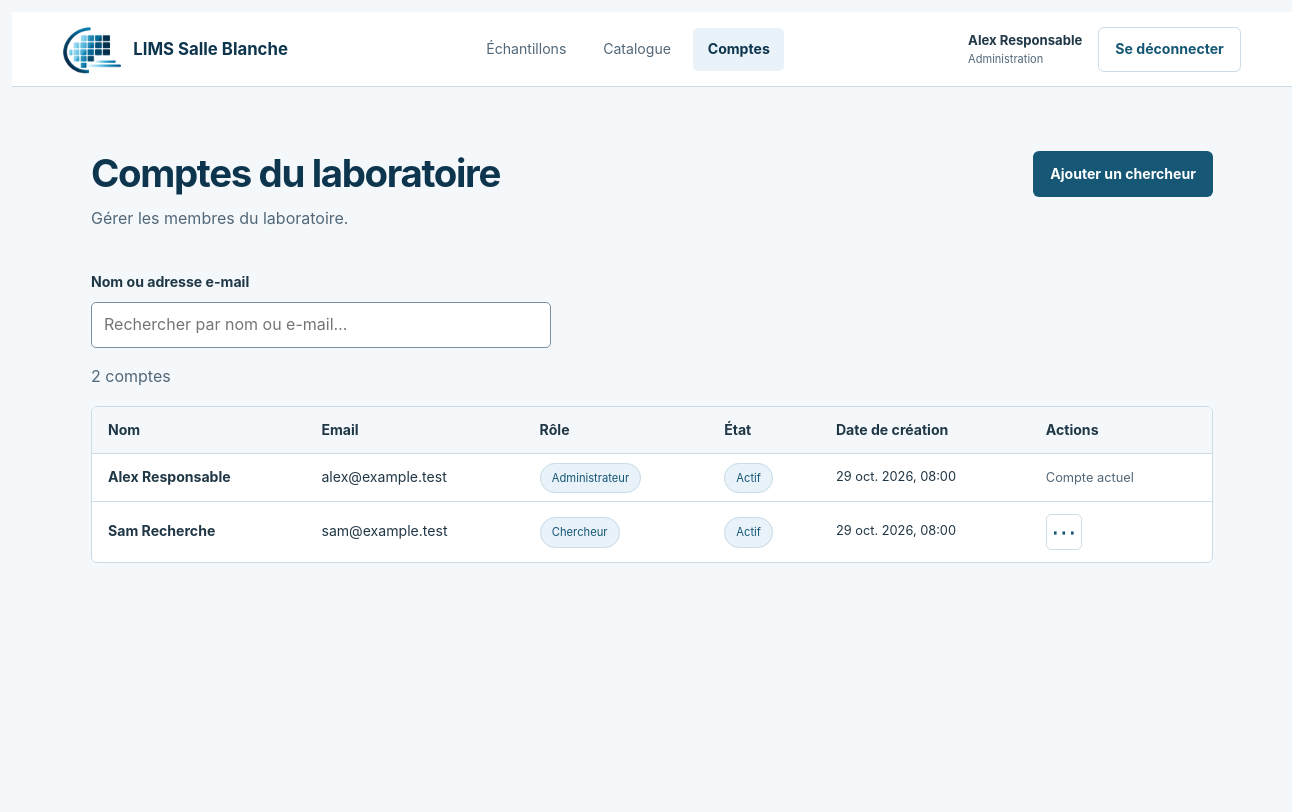
Test: Administration des comptes › efface la session sur 401 pendant un changement d’état
Click the button "⋯" at coordinates (1064, 532), box [1046,514,1082,550]
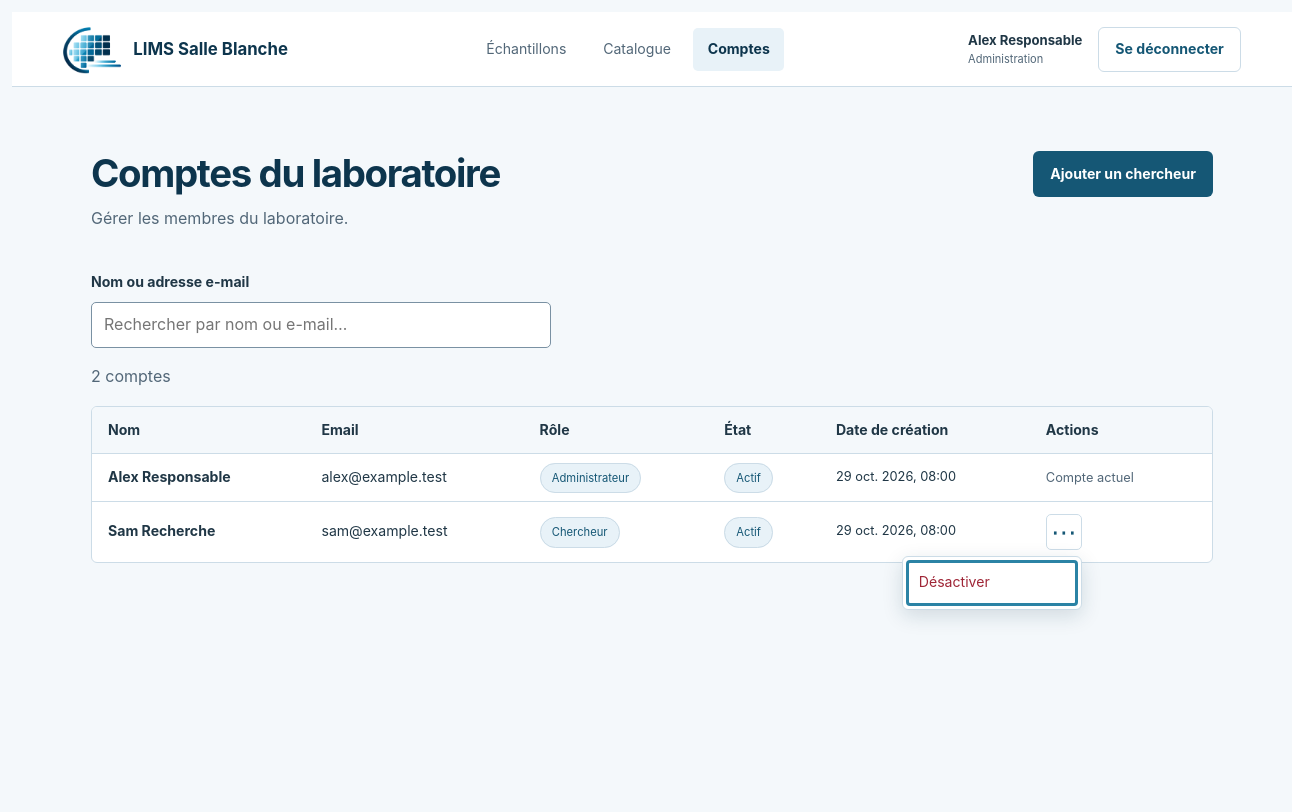
Click the menu item "Désactiver" at coordinates (992, 583), box [907,561,1077,605]
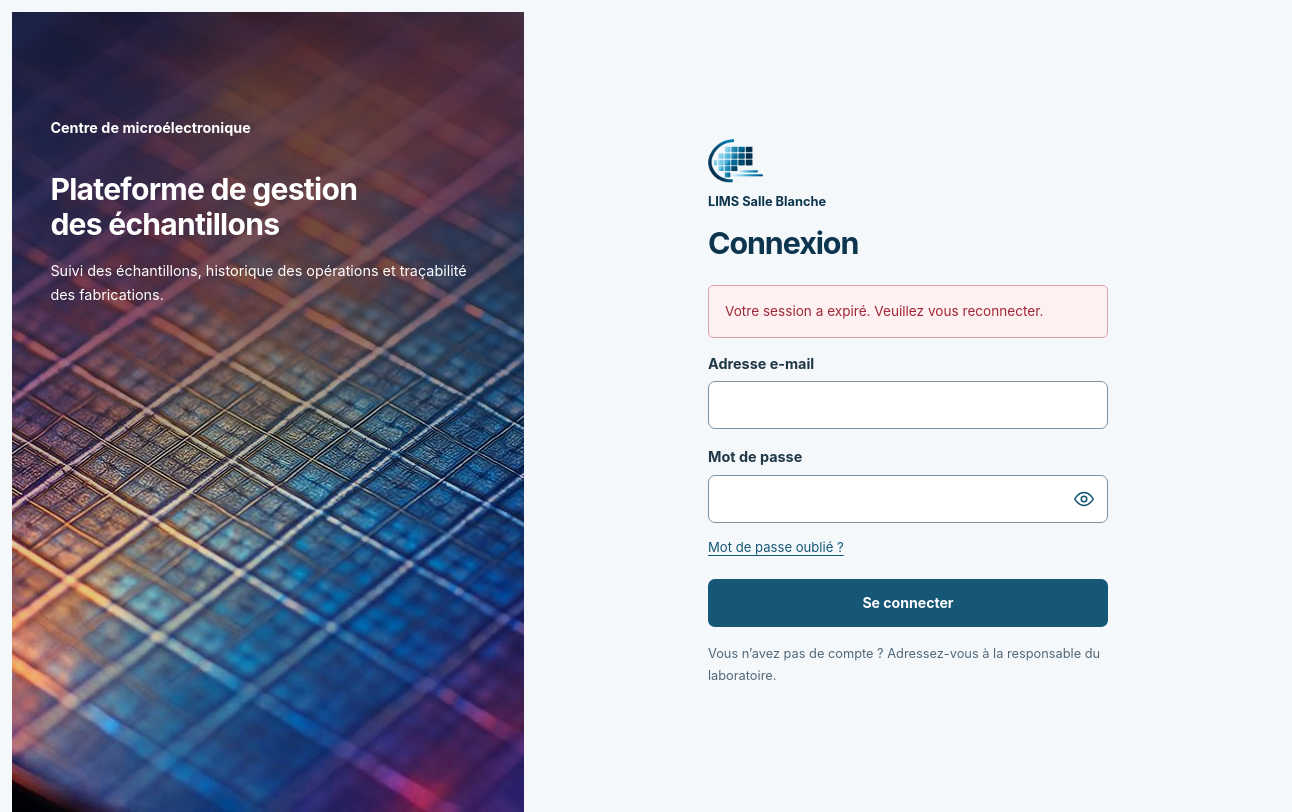
Check: the heading "Connexion" is shown, box [708,225,858,261]
